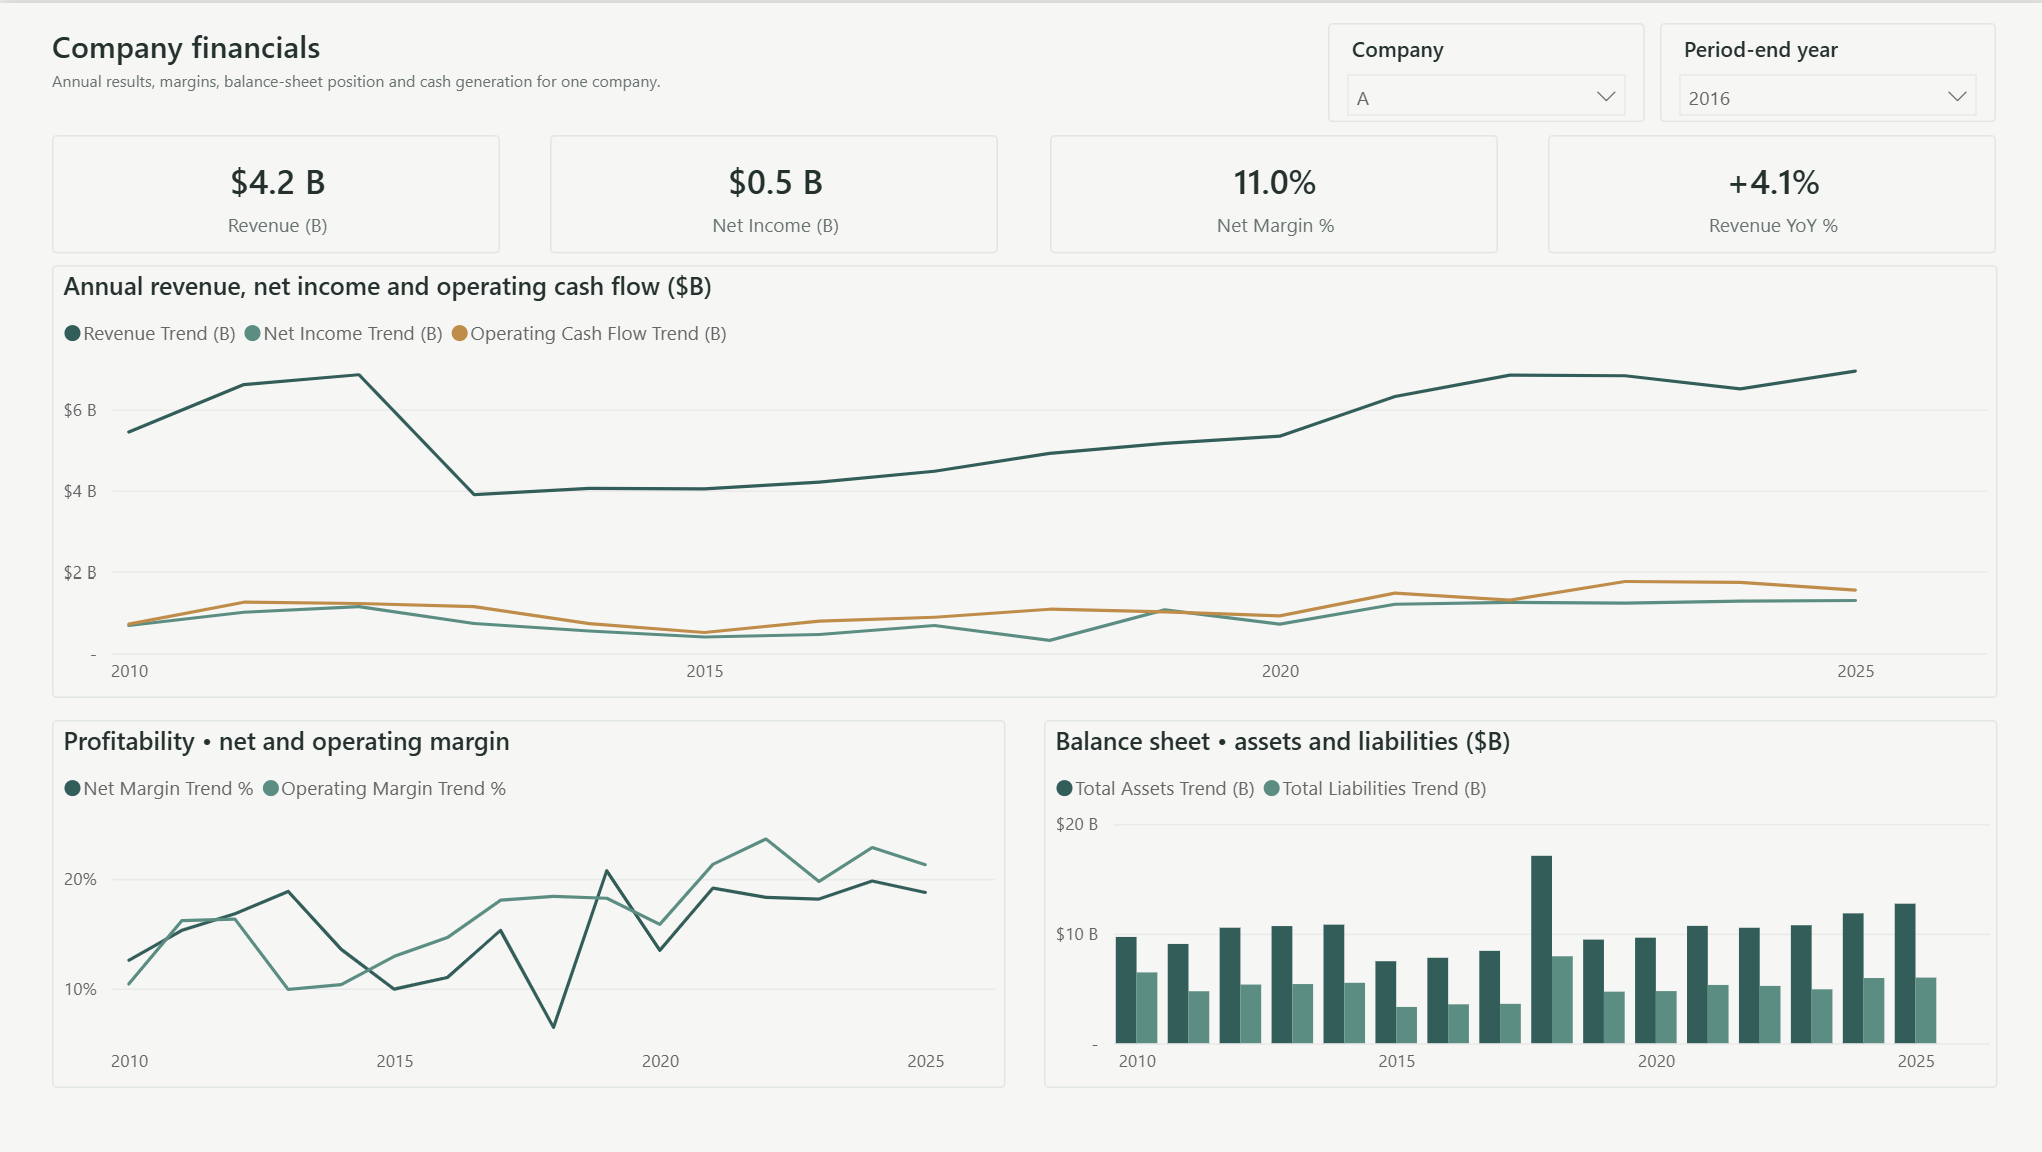

Layout of this report page (visuals, bound fields, positions):
{"tool":"powerbi","page":{"name":"Company financials","canvas":[1280,720],"ordinal":1},"visuals":[{"type":"slicer","fields":{"Values":["dim_company.ticker"]},"box":[830,12,198,62],"z":0},{"type":"slicer","fields":{"Values":["dim_reporting_period.calendar_year"]},"box":[1038,12,210,62],"z":0},{"type":"card","fields":{"Values":["fact_financial_metric.Revenue (B)"]},"box":[32,82,280,74],"z":0},{"type":"card","fields":{"Values":["fact_financial_metric.Net Income (B)"]},"box":[344,82,280,74],"z":0},{"type":"card","fields":{"Values":["fact_financial_metric.Net Margin %"]},"box":[656,82,280,74],"z":0},{"type":"card","fields":{"Values":["fact_financial_metric.Revenue YoY %"]},"box":[968,82,280,74],"z":0},{"type":"lineChart","title":"Annual revenue, net income and operating cash flow ($B)","fields":{"Category":["DateTable.Year"],"Y":["fact_financial_metric.Revenue Trend (B)","fact_financial_metric.Net Income Trend (B)","fact_financial_metric.Operating Cash Flow Trend (B)"]},"box":[32,164,1216,270],"z":0},{"type":"lineChart","title":"Profitability • net and operating margin","fields":{"Category":["DateTable.Year"],"Y":["fact_financial_metric.Net Margin Trend %","fact_financial_metric.Operating Margin Trend %"]},"box":[32,448,596,230],"z":0},{"type":"clusteredColumnChart","title":"Balance sheet • assets and liabilities ($B)","fields":{"Category":["DateTable.Year"],"Y":["fact_financial_metric.Total Assets Trend (B)","fact_financial_metric.Total Liabilities Trend (B)"]},"box":[652,448,596,230],"z":0},{"type":"textbox","box":[32,14,760,54],"z":1000}]}

Visuals, with their boxes in screenshot pixels (x1, y1, x2, y2), scaled from the page's 1280x720 canvas onto the 2042x1152 screenshot:
slicer - dim_company.ticker: box(1324, 19, 1640, 118)
slicer - dim_reporting_period.calendar_year: box(1656, 19, 1991, 118)
card - fact_financial_metric.Revenue (B): box(51, 131, 498, 250)
card - fact_financial_metric.Net Income (B): box(549, 131, 995, 250)
card - fact_financial_metric.Net Margin %: box(1047, 131, 1493, 250)
card - fact_financial_metric.Revenue YoY %: box(1544, 131, 1991, 250)
"Annual revenue, net income and operating cash flow ($B)" lineChart: box(51, 262, 1991, 694)
"Profitability • net and operating margin" lineChart: box(51, 717, 1002, 1085)
"Balance sheet • assets and liabilities ($B)" clusteredColumnChart: box(1040, 717, 1991, 1085)
textbox: box(51, 22, 1263, 109)
